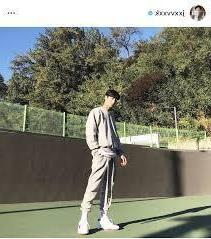sweater: (86, 107, 124, 156)
trousers: (79, 156, 118, 212)
